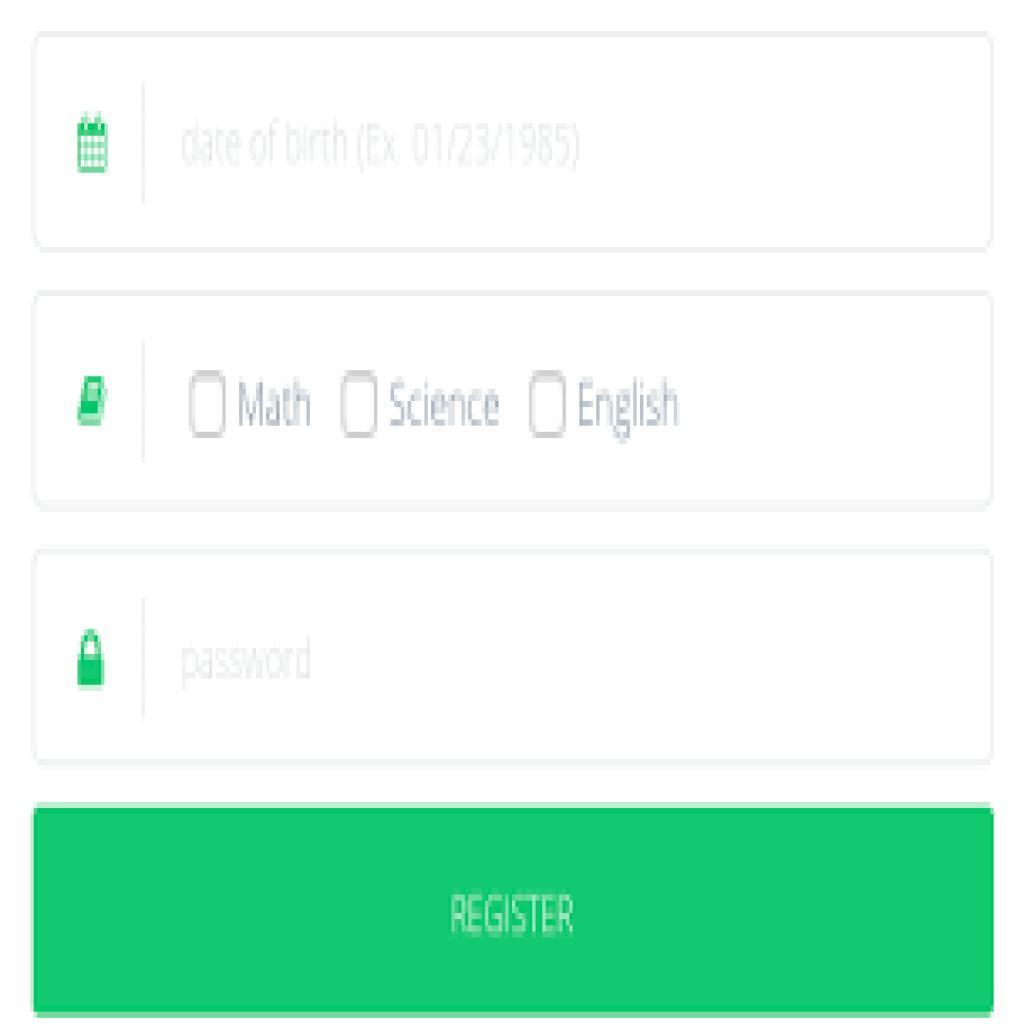button: (34, 805, 998, 1021)
checkbox: (525, 371, 570, 439), (338, 370, 383, 436), (187, 371, 225, 440)
input: (41, 551, 995, 759), (36, 39, 993, 246), (40, 300, 986, 497)
